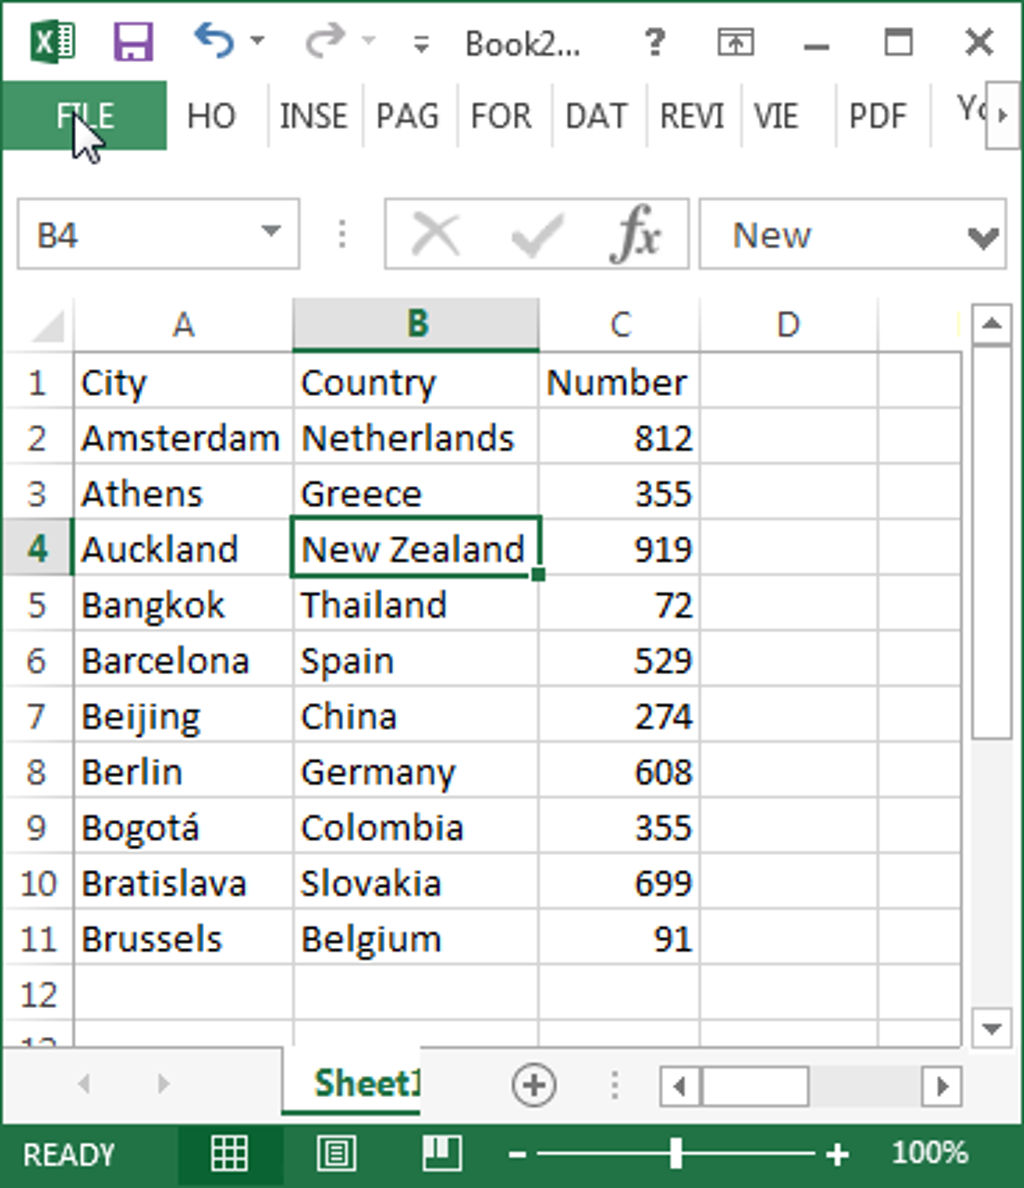button: (972, 345, 1014, 738), (1, 81, 167, 151), (279, 1047, 423, 1118), (167, 81, 269, 152), (363, 82, 457, 151), (457, 82, 552, 151), (553, 82, 648, 151), (740, 80, 835, 148), (178, 1126, 283, 1188), (836, 81, 931, 148), (648, 81, 740, 151), (270, 82, 362, 151), (703, 1065, 810, 1108), (302, 15, 388, 66), (604, 200, 668, 266), (932, 81, 986, 148), (509, 208, 570, 261), (410, 207, 462, 260), (987, 81, 1023, 148), (28, 16, 77, 66), (511, 1062, 558, 1108), (419, 1132, 466, 1176), (314, 1132, 360, 1176), (111, 18, 155, 63), (658, 1065, 703, 1108), (190, 18, 235, 61), (921, 1065, 963, 1108), (305, 19, 347, 61), (972, 303, 1013, 345), (972, 1007, 1013, 1048), (714, 23, 758, 59), (881, 21, 920, 61), (959, 24, 997, 61), (638, 21, 673, 61), (964, 222, 1003, 252), (823, 1138, 852, 1170), (796, 35, 838, 54), (503, 1141, 532, 1167), (152, 1070, 178, 1099), (665, 1135, 685, 1173), (257, 219, 288, 241), (409, 29, 434, 57), (243, 28, 271, 52), (354, 29, 383, 52), (74, 1070, 95, 1097)
common: (21, 1137, 117, 1172), (727, 217, 817, 252)
container: (1, 152, 1024, 294), (1, 1, 1024, 80), (1, 1050, 1024, 1122), (1, 82, 1024, 152), (1, 1123, 1024, 1188), (972, 303, 1014, 1049), (697, 197, 1009, 270), (384, 197, 691, 270), (499, 1130, 974, 1174), (499, 1132, 858, 1175), (659, 1063, 965, 1109), (188, 16, 273, 63), (888, 1136, 972, 1172)
header: (463, 25, 591, 58)
table: (1, 292, 963, 1049)
table-cell: (295, 295, 540, 352), (294, 464, 539, 520), (294, 686, 538, 742), (294, 964, 538, 1020), (295, 352, 540, 407), (294, 630, 539, 686), (295, 520, 539, 576), (294, 575, 538, 630), (293, 853, 539, 907), (294, 408, 539, 463), (294, 742, 539, 797), (294, 908, 538, 963), (293, 798, 539, 852), (74, 295, 294, 352), (74, 686, 294, 742), (74, 964, 294, 1020), (74, 352, 294, 407), (74, 464, 294, 519), (74, 575, 294, 630), (74, 630, 294, 686), (74, 853, 293, 908), (75, 408, 294, 463), (74, 742, 293, 797), (74, 520, 294, 574), (74, 909, 294, 963), (74, 798, 293, 852), (700, 963, 878, 1019), (700, 295, 877, 352), (701, 686, 878, 742), (700, 853, 879, 908), (700, 797, 878, 853), (700, 575, 877, 630), (700, 353, 878, 407), (700, 464, 878, 518), (700, 519, 878, 574), (700, 630, 878, 685), (701, 408, 878, 463), (701, 742, 878, 797), (701, 908, 878, 963), (538, 963, 701, 1020), (540, 295, 700, 353), (538, 686, 701, 741), (538, 741, 701, 797), (540, 352, 700, 408), (538, 575, 701, 629), (540, 852, 700, 907), (539, 519, 701, 574), (538, 630, 700, 685), (540, 408, 701, 463), (539, 464, 700, 518), (539, 908, 700, 963), (539, 798, 699, 852), (294, 1020, 538, 1047), (75, 1020, 294, 1048), (877, 295, 962, 352), (877, 963, 962, 1019), (878, 352, 962, 408), (877, 630, 962, 686), (877, 575, 961, 630), (878, 686, 960, 742), (878, 408, 962, 463), (877, 464, 961, 518), (877, 519, 961, 574), (701, 1020, 877, 1047), (879, 853, 960, 908), (879, 908, 960, 964), (878, 797, 960, 852), (878, 742, 960, 796), (539, 1020, 700, 1048), (1, 686, 74, 742), (1, 630, 74, 686), (2, 741, 75, 797), (1, 853, 74, 908), (1, 964, 74, 1019), (4, 295, 75, 352), (3, 574, 74, 630), (2, 464, 74, 519), (3, 352, 74, 407), (1, 798, 74, 852), (3, 408, 74, 463), (1, 909, 73, 963), (3, 520, 74, 574), (877, 1020, 962, 1047), (1, 1020, 74, 1047)
table-row: (1, 294, 962, 353), (1, 964, 960, 1021), (1, 353, 962, 409), (1, 853, 962, 909), (1, 520, 962, 576), (1, 576, 962, 631), (1, 409, 961, 465), (1, 464, 961, 519), (1, 909, 961, 965), (1, 687, 960, 742), (1, 742, 961, 797), (1, 798, 960, 853), (1, 632, 961, 686), (1, 1021, 963, 1049)
text-input: (17, 198, 299, 270)
